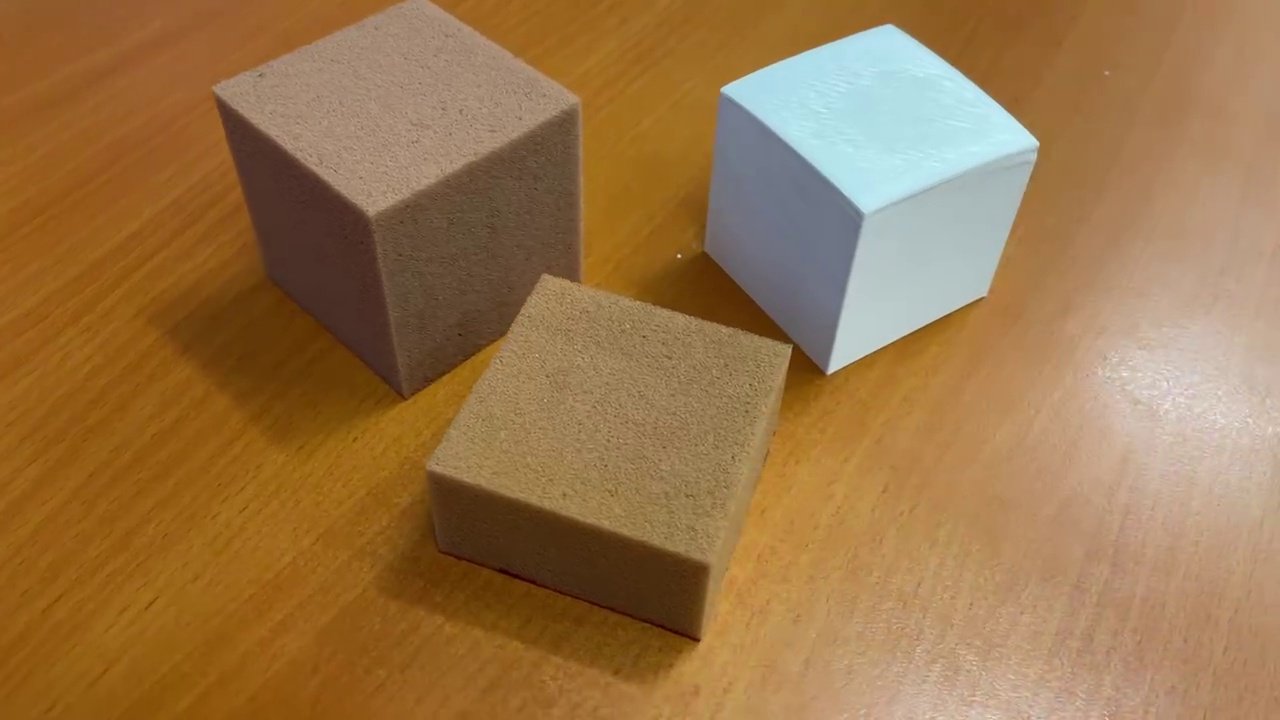Cube: (206, 1, 592, 404), (697, 21, 1046, 383)
Cube_short: (421, 267, 797, 649)
